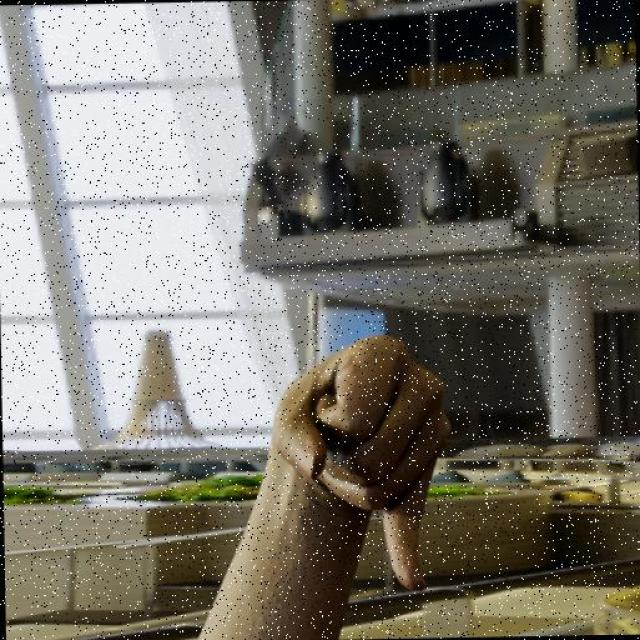J: (263, 327, 462, 598)
